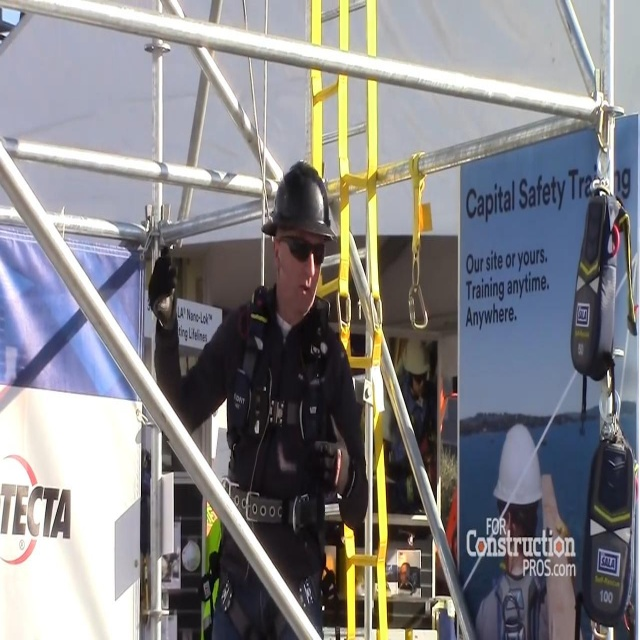Arnes_seguridad: (215, 281, 336, 633)
